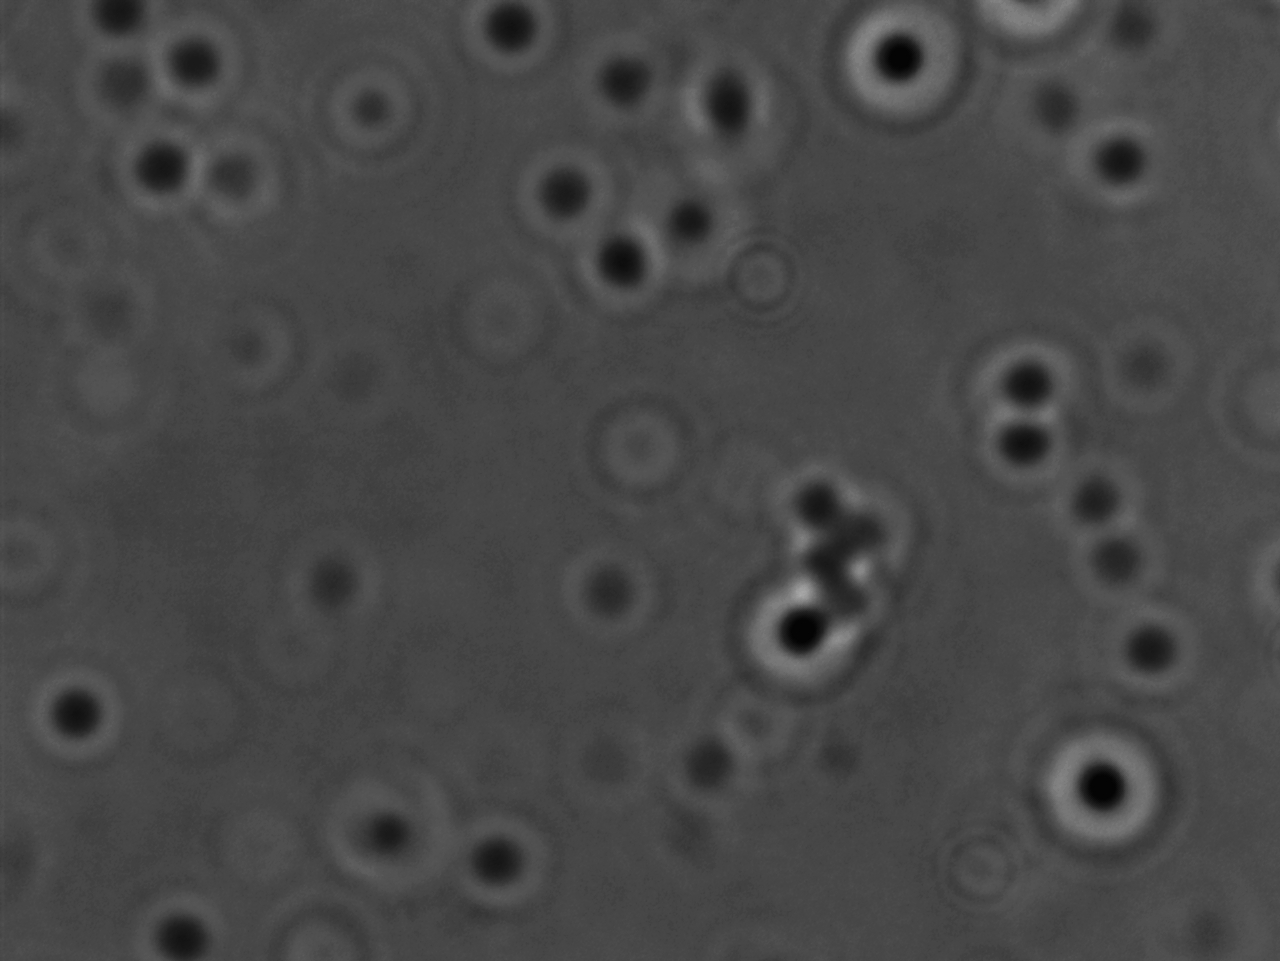depth:-32: (1022, 706, 1178, 868), (720, 549, 879, 705)
